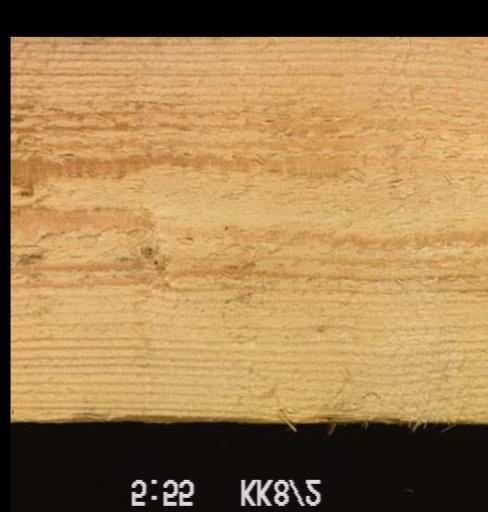small_knot: (136, 243, 154, 262)
wave: (68, 406, 428, 425)
